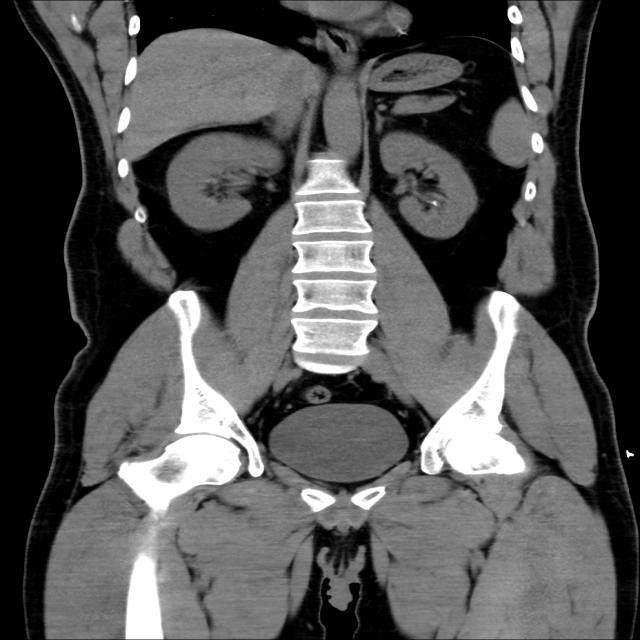kidneystone: (432, 200, 441, 206)
